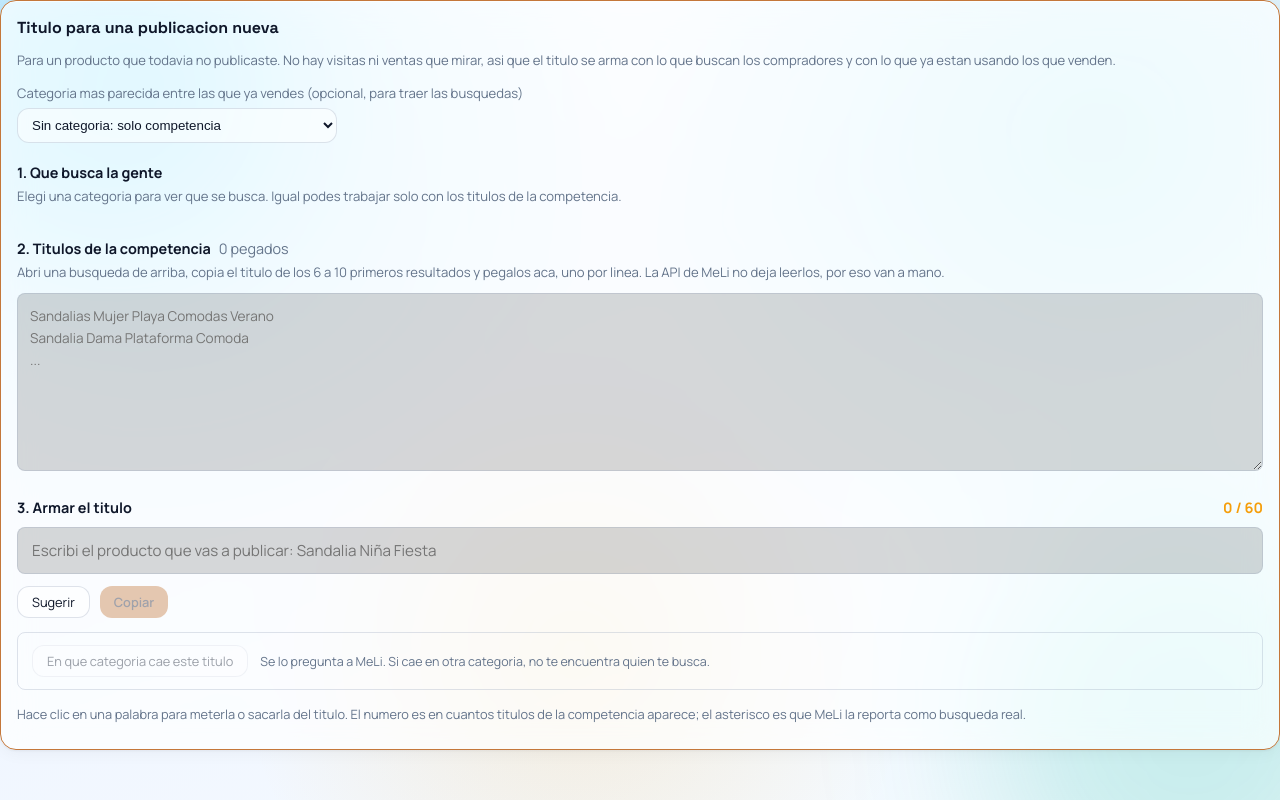
Test: SeoTitulosNuevos › al elegir categoria trae solo las busquedas que van con lo que escribis
Select "Sandalias y Chanclas (12 pub.)" in the dropdown at {"x": 177, "y": 126}, box [17,108,337,143]
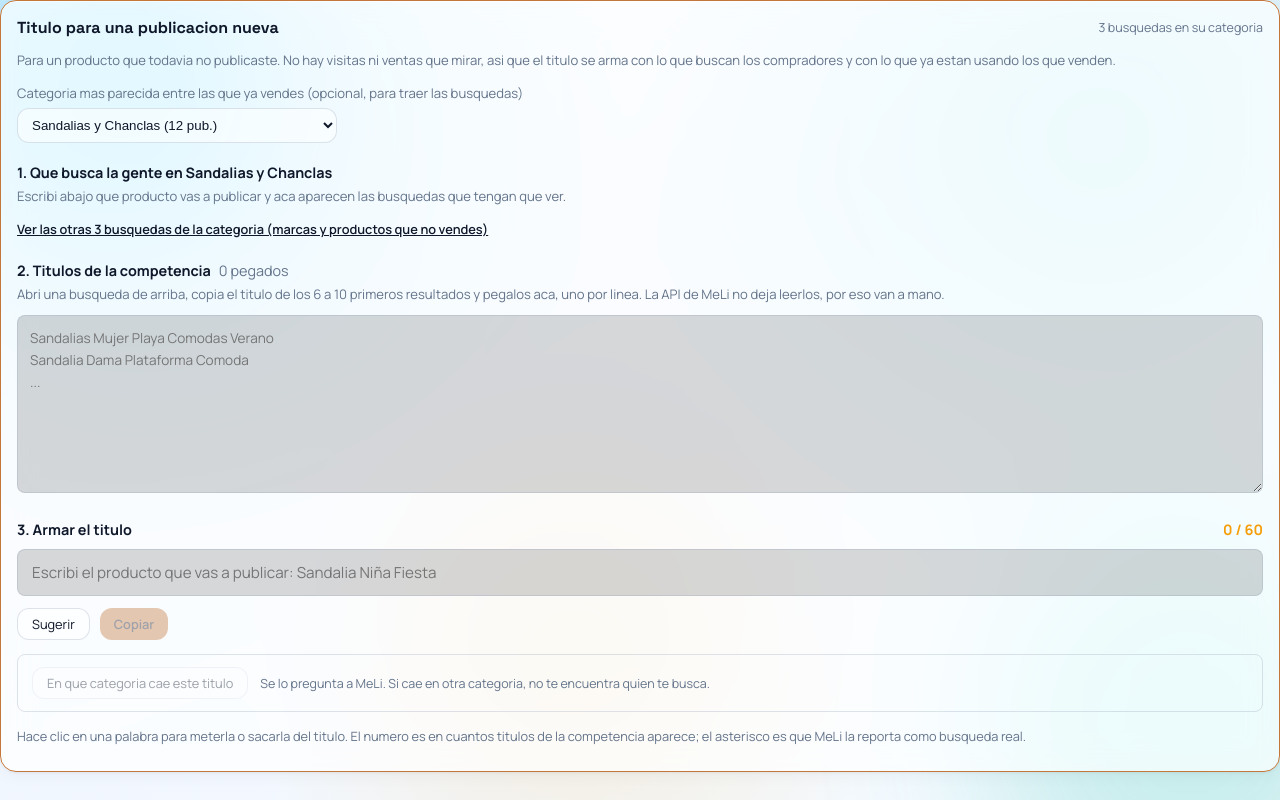
expect the text "Escribi abajo que producto vas a publicar" is shown: met, box [17,187,566,205]
Type "Sandalia Niña Fiesta" into the field with placeholder "Escribi el producto que vas a publicar" at {"x": 640, "y": 573}, box [17,549,1263,596]
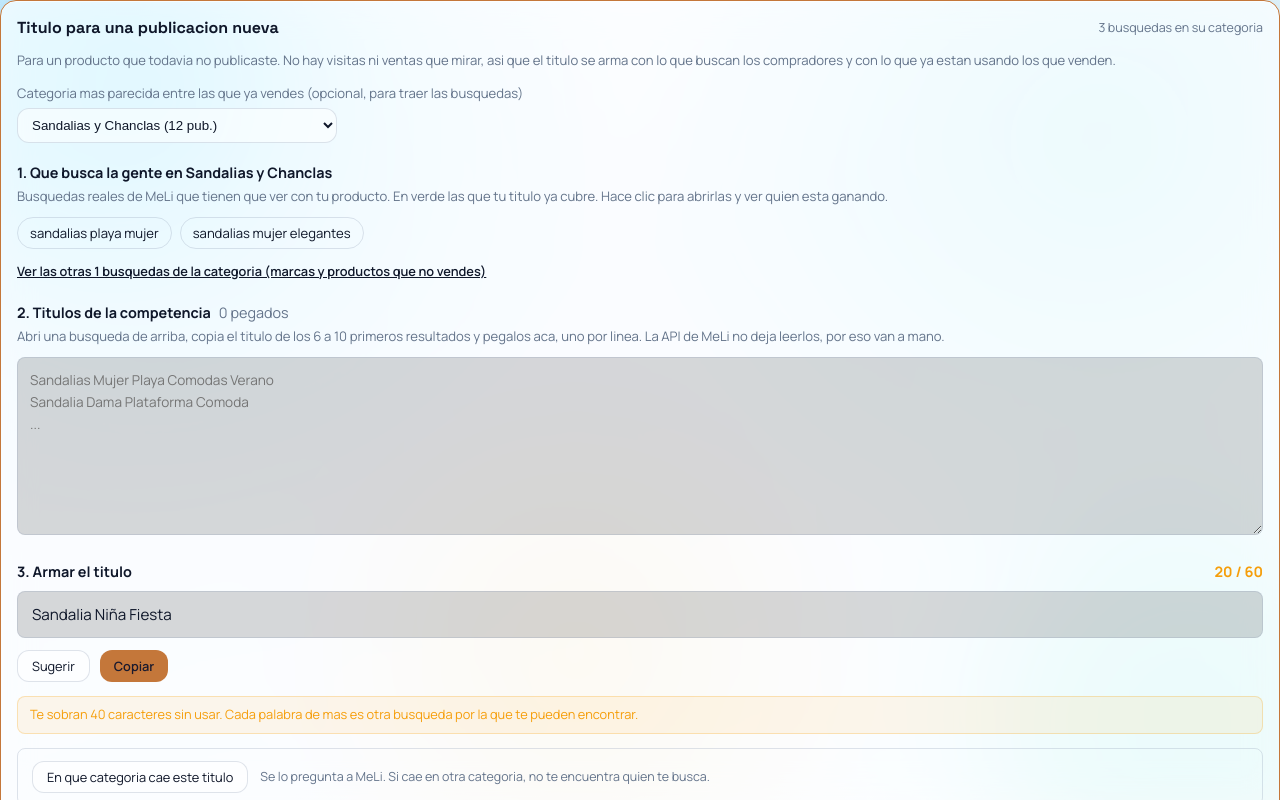
expect the link "sandalias playa mujer" is shown: met, box [17,217,172,249]
